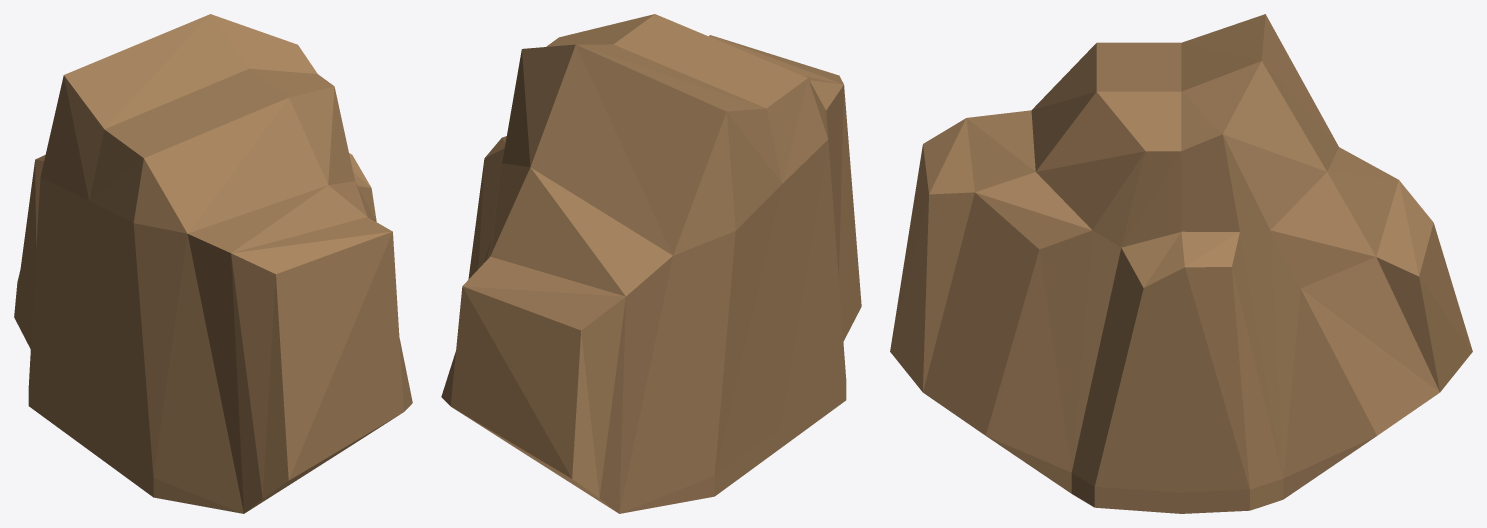
Rendered from boulder_desert_1.glb.
3 renders of one model, left to right at view 1: azimuth 30°, elevation 25°; view 2: azimuth 150°, elevation 25°; view 3: azimuth 270°, elevation 25°, orthographic. The views are drawn at different scales.
Visible parts, largest first — view 1: lod0; view 2: lod0; view 3: lod0.
Boxes of the visible parts, left/top/right/bottom form: lod0: left=14, top=14, right=412, bottom=513; lod0: left=441, top=14, right=861, bottom=513; lod0: left=890, top=14, right=1472, bottom=513.
Size of what is drawn, in the model's own units: 2.55 by 3.25 by 4.29.
